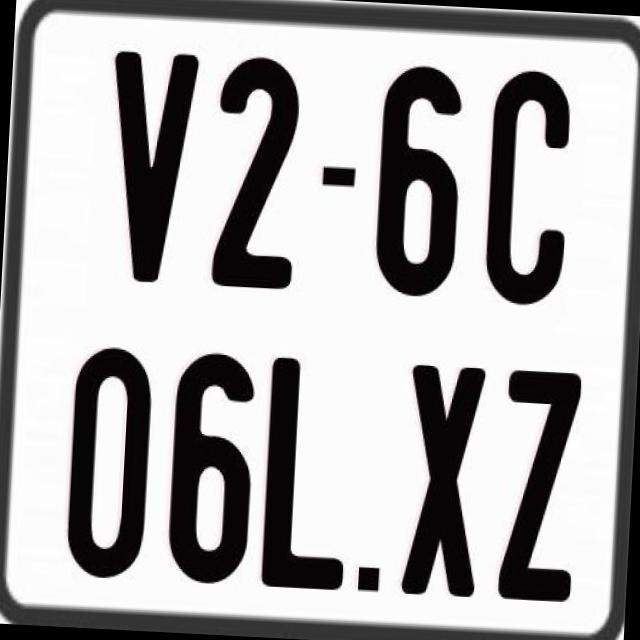0: (64, 344, 160, 587)
2: (208, 55, 308, 298)
6: (369, 61, 466, 304), (162, 348, 257, 587)
C: (483, 65, 575, 302)
L: (258, 354, 356, 587)
V: (100, 51, 199, 289)
X: (396, 365, 483, 602)
Z: (498, 366, 582, 602)
